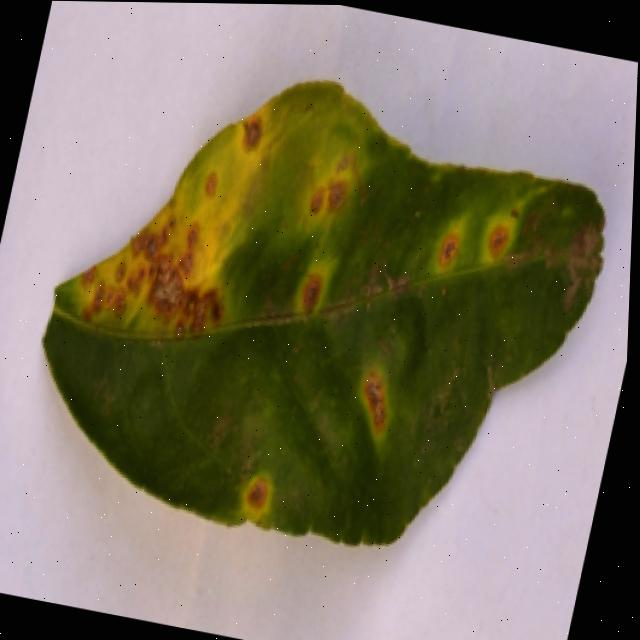canker: (46, 84, 604, 544), (47, 62, 300, 368), (281, 153, 377, 327), (418, 205, 528, 303), (333, 349, 414, 449), (225, 460, 284, 524)
